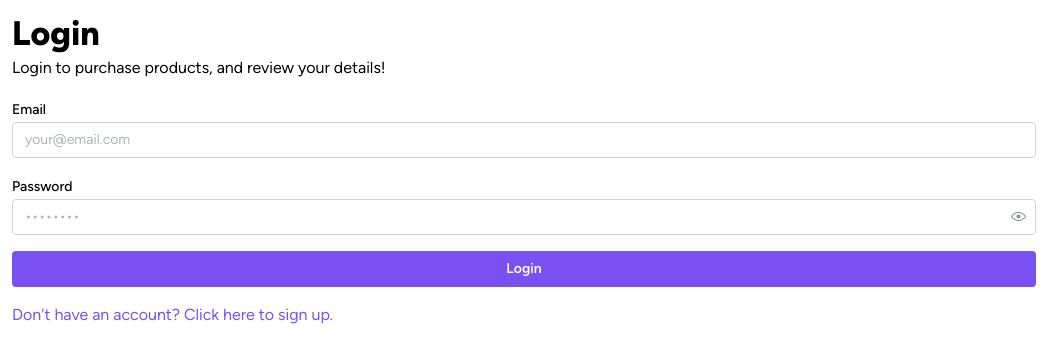
Test: Login Component › shows an error when the password does not meet validation criteria
The width and height of the screenshot is (1048, 360).
Type "test@example.com" into the field labelled "Email" at [524, 140], box [12, 122, 1036, 158]
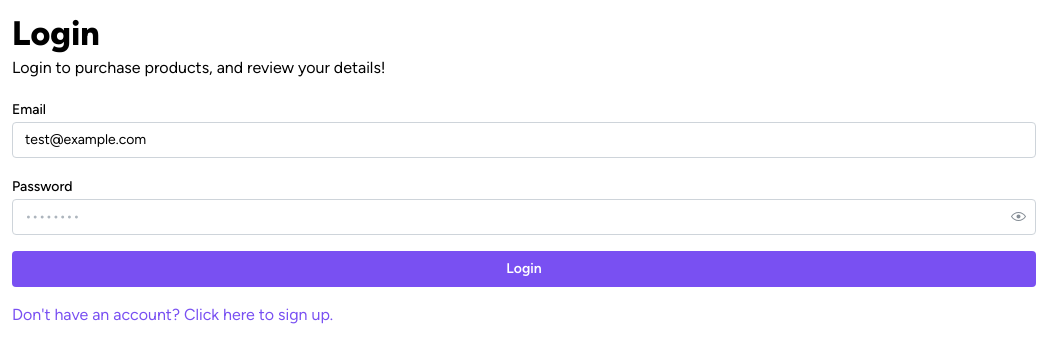
Type "short" into the password field labelled "Password" at [524, 217], box [13, 200, 1035, 234]
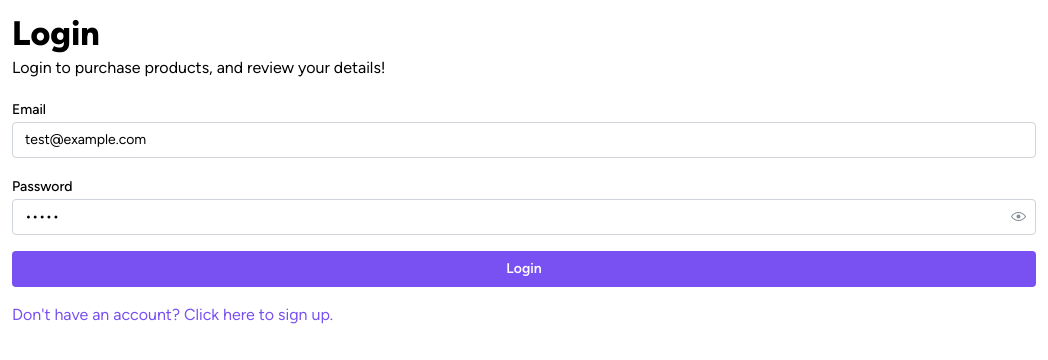
Click the button with test id "login-button" at [524, 269], box [12, 251, 1036, 287]
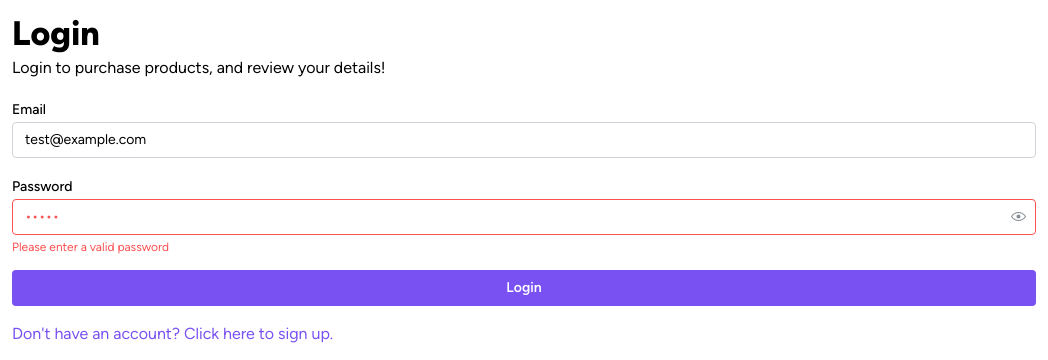
Check: the text "Please enter a valid password" is shown, box [12, 240, 169, 254]
